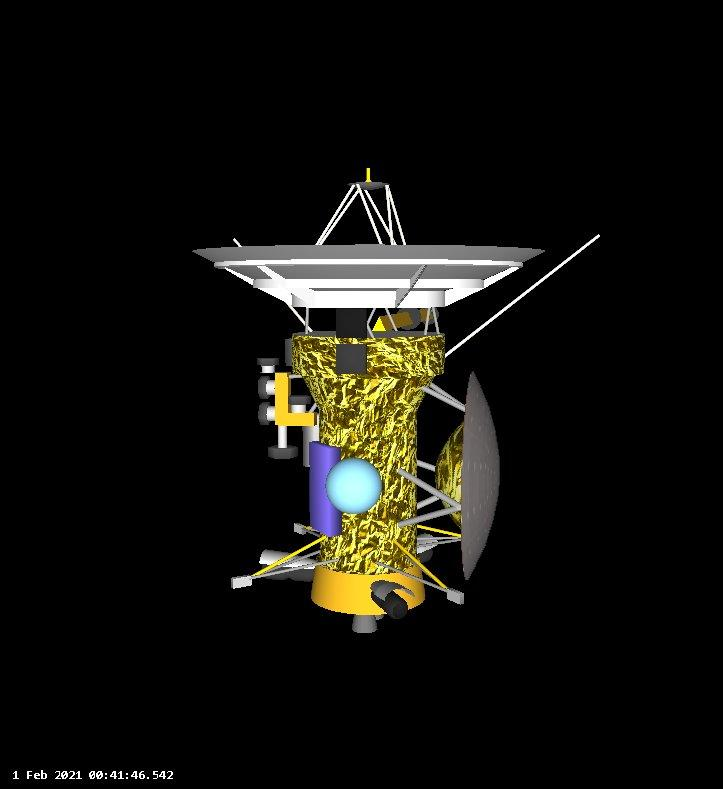antenna: (189, 165, 548, 312), (442, 230, 604, 359), (435, 369, 504, 582)
body: (281, 329, 447, 619)
thruster: (261, 564, 315, 584), (349, 608, 380, 635), (415, 548, 436, 564), (373, 613, 386, 622)
